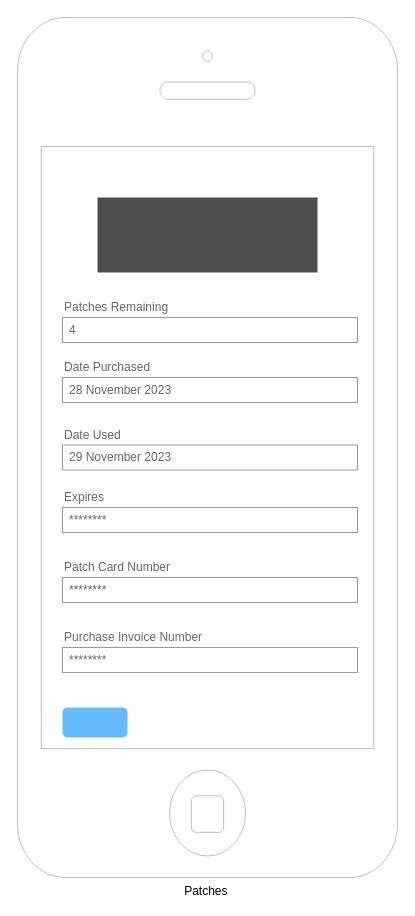
This 415x916 diagram has some shape labels left out. Here are the shapes that lost their labels. From the top down, the centre of each, then its label:
At pixel 207 234: "WELCOME {USER} PLEASE UPDATE SKATER PATCH DETAILS".
At pixel 94 722: "UPDATE".
